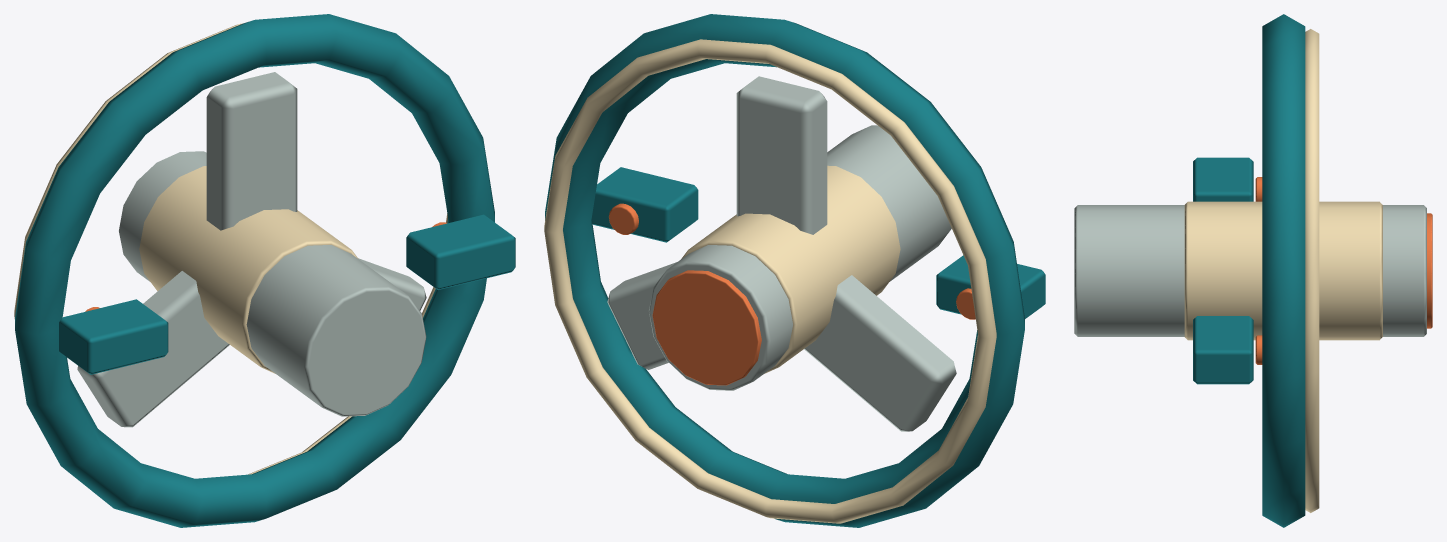
Rendered from propeller-lod-1.glb.
3 views of the same model, side by side, from view 1: azimuth 30°, elevation 25°; view 2: azimuth 150°, elevation 25°; view 3: azimuth 270°, elevation 25° (orthographic). The views are drawn at different scales.
Parts seen in each view (by area): view 1: propeller_lod_1; view 2: propeller_lod_1; view 3: propeller_lod_1.
Boxes of the visible parts, x1,y1,x2,y2 form: propeller_lod_1: (14,14,515,527); propeller_lod_1: (544,14,1045,527); propeller_lod_1: (1074,14,1432,527).
Bounding box in the file's own units: 0.94 × 0.94 × 0.65.
